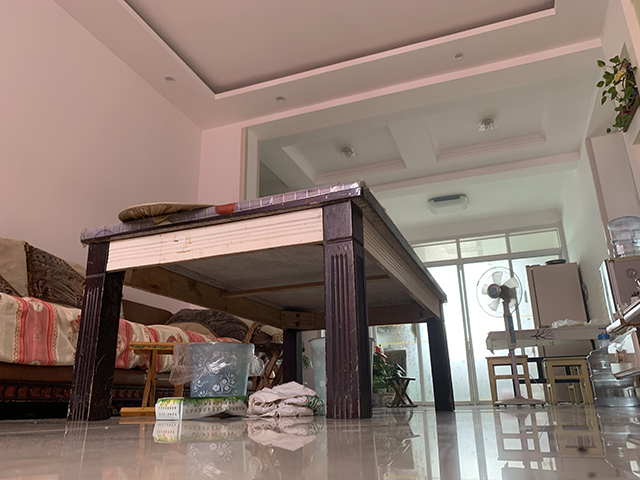sofa: (1, 237, 285, 421)
stool: (119, 338, 185, 418), (539, 354, 596, 408), (484, 355, 539, 407), (383, 375, 419, 409)
table: (67, 178, 456, 422)
trashcan: (187, 341, 255, 398)
